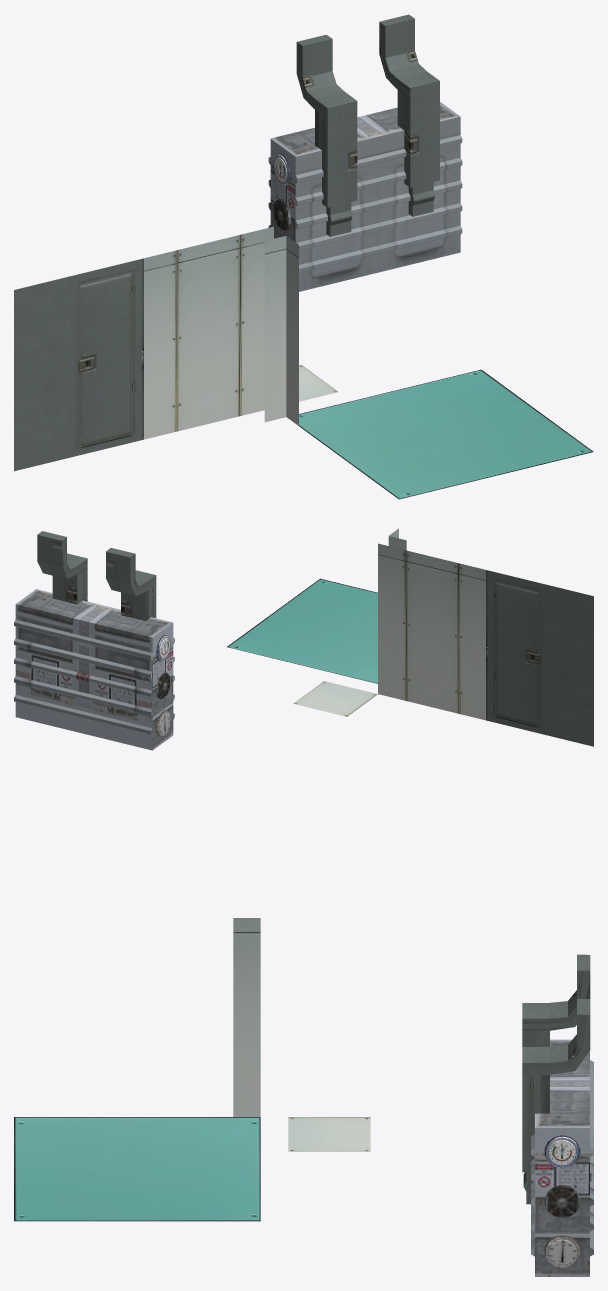
Rendered from tilemapstart.glb.
The picture shows the model from 3 angles, top to bottom: view 1: azimuth 30°, elevation 25°; view 2: azimuth 150°, elevation 25°; view 3: azimuth 270°, elevation 25°; orthographic projection. The views are drawn at different scales.
Visible parts, largest first — view 1: Cube, Cube.006, Cube.001, Cube.005, Cube.002, Cube.004; view 2: Cube, Cube.001, Cube.006, Cube.005, Cube.004; view 3: Cube.005, Cube, Cube.002, Cube.004.
Boxes of the visible parts, x1,y1,x2,y2 form: Cube: (268, 14, 462, 291); Cube.006: (14, 258, 143, 471); Cube.001: (144, 226, 273, 439); Cube.005: (299, 369, 593, 499); Cube.002: (264, 235, 298, 425); Cube.004: (299, 364, 338, 401); Cube: (14, 531, 174, 750); Cube.001: (378, 543, 485, 720); Cube.006: (486, 570, 593, 746); Cube.005: (227, 578, 377, 683); Cube.004: (293, 681, 377, 716); Cube.005: (14, 1117, 260, 1221); Cube: (522, 954, 593, 1276); Cube.002: (233, 918, 260, 1116); Cube.004: (288, 1117, 370, 1151).
Bounding box in the file's own units: 25.92 × 9.98 × 21.15.
1 material, 1 textured.
